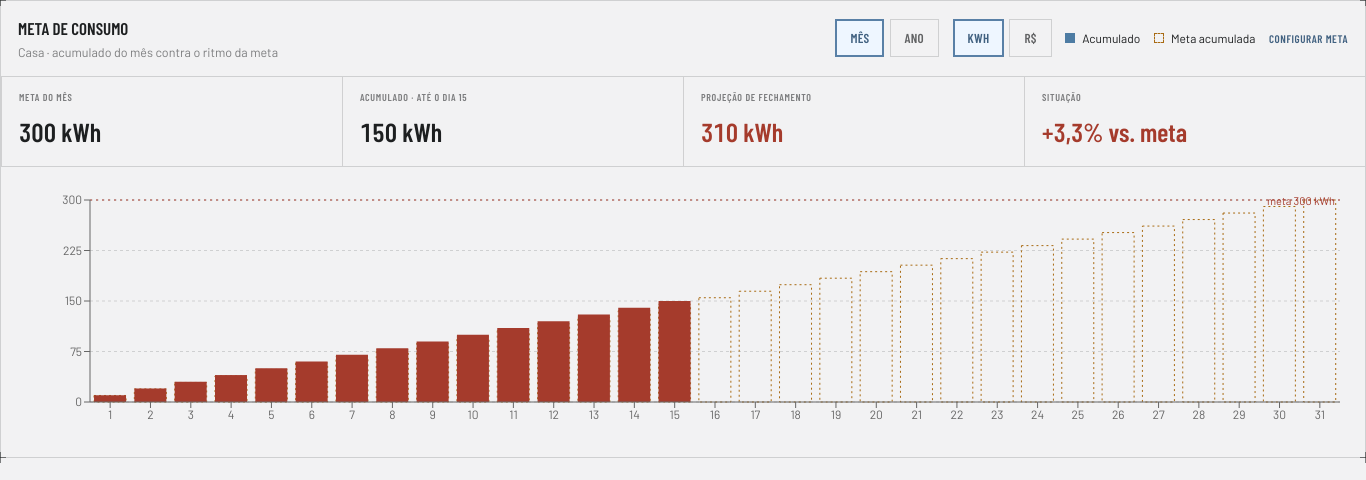
GoalSection — Ano › usa o acompanhamento da meta: acumulado dos meses com leitura e projeção pelos meses fechados
This screenshot has width=1366, height=480.
Expected: the text "Acumulado · até o dia 15" is shown, [360,91,467,103]
Step 1. Click the button with test id "goal-period-year" → (914, 38), box [890,19,939,57]
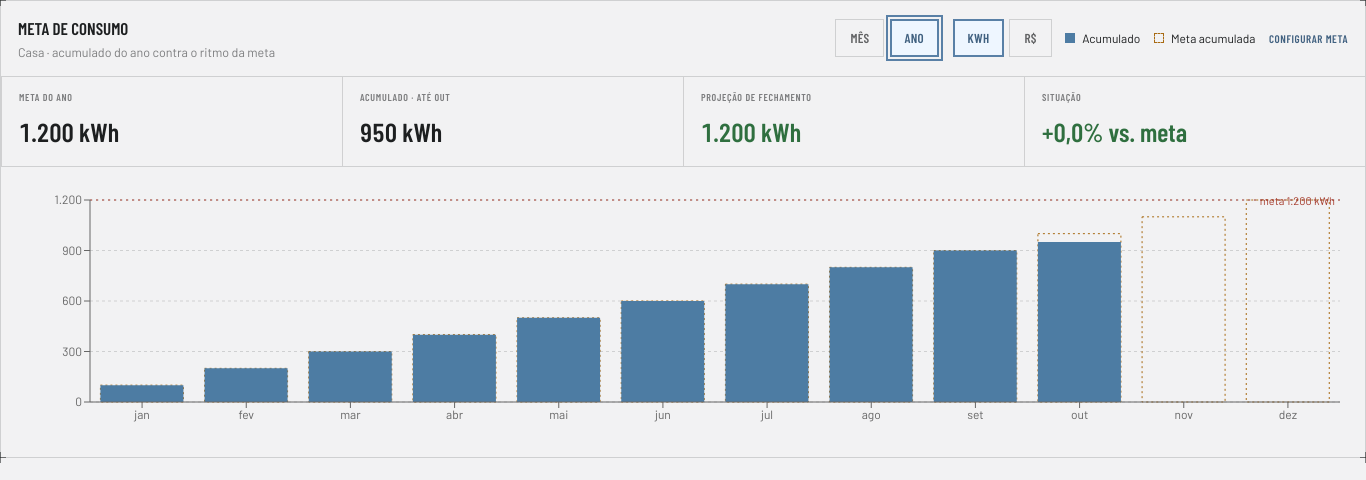
Result: the text "950 kWh" is shown at [360,116,442,148]
Result: the text "1.200 kWh" below "Projeção de fechamento" is shown at [701,116,801,148]
Result: the text "+0,0% vs. meta" is shown at [1042,116,1187,148]
